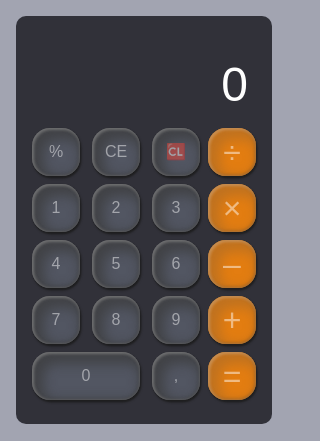
Test: division by 0 returns error
The image size is (320, 441).
Click the button "2". click: (116, 208)
box: [92,184,140,232]
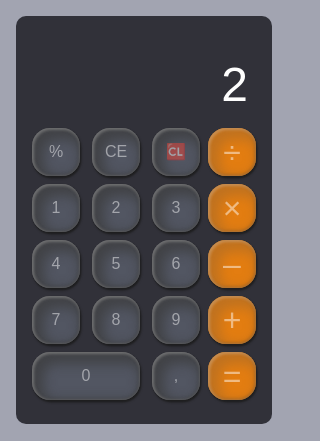
Click the button "÷". click: (232, 152)
box: [208,128,256,176]
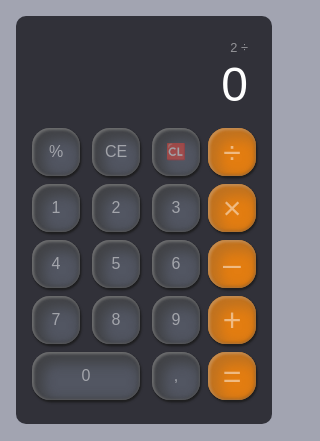
Click the button "=". click: (232, 376)
box: [208,352,256,400]
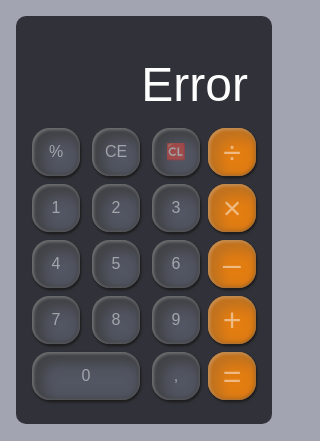
Check: the field showing "Error" is shown, box [40,56,248,112]
